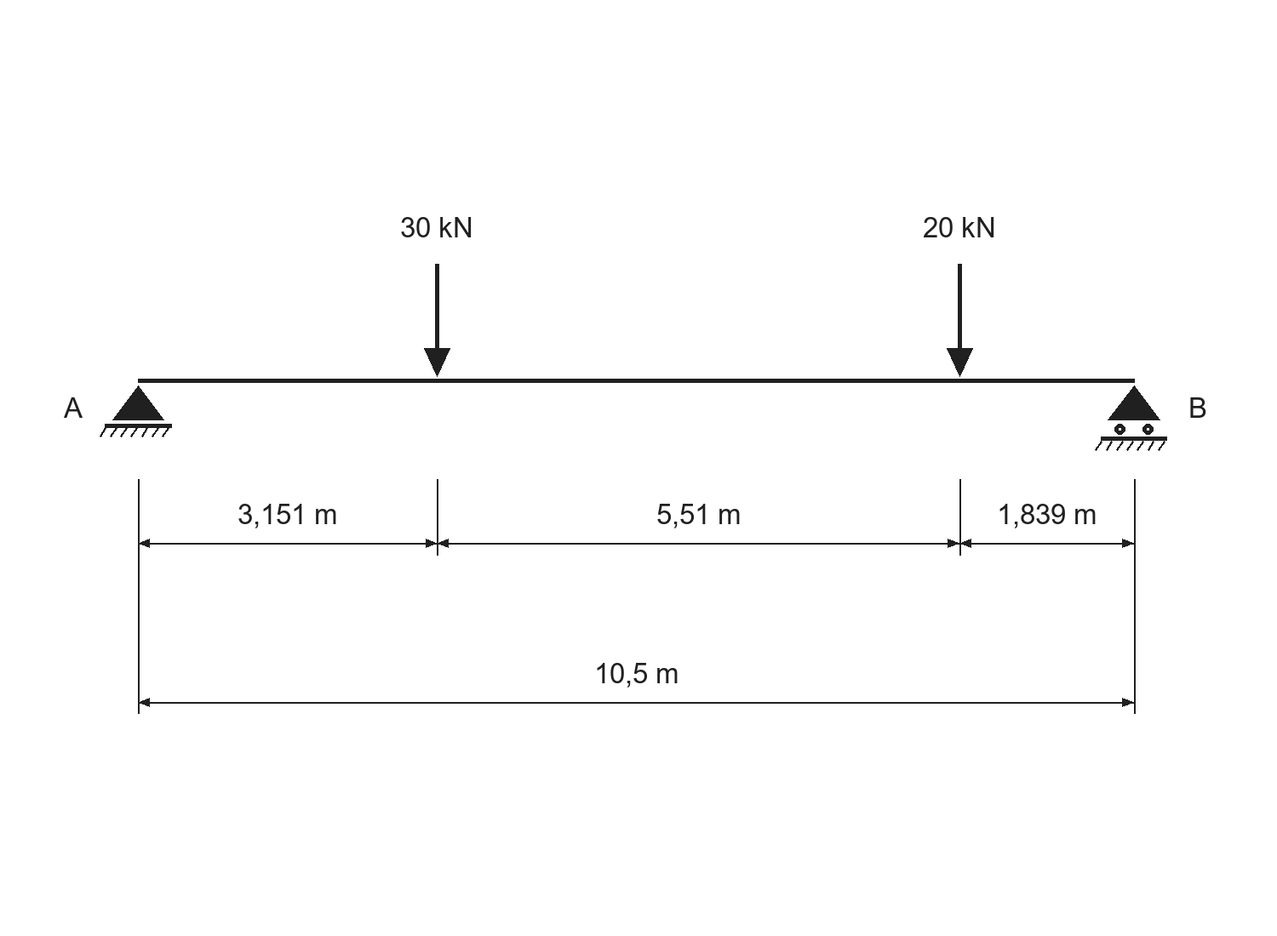pin_support: (100, 385, 172, 437)
point_load: (424, 264, 450, 377), (947, 264, 973, 377)
roller_support: (1095, 385, 1167, 451)
